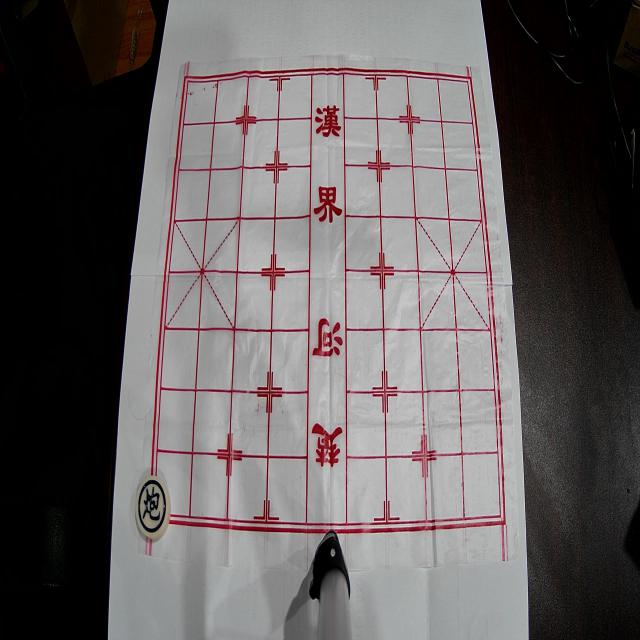black-cannon: (136, 476, 170, 540)
